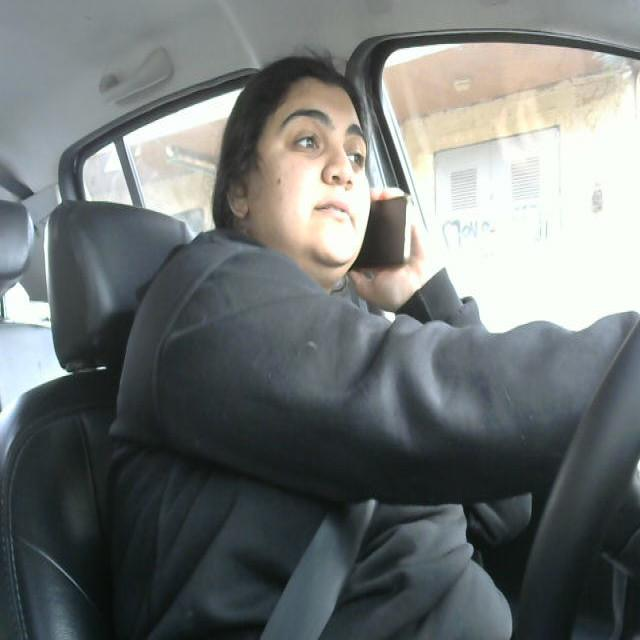mobile use: (364, 187, 422, 267)
